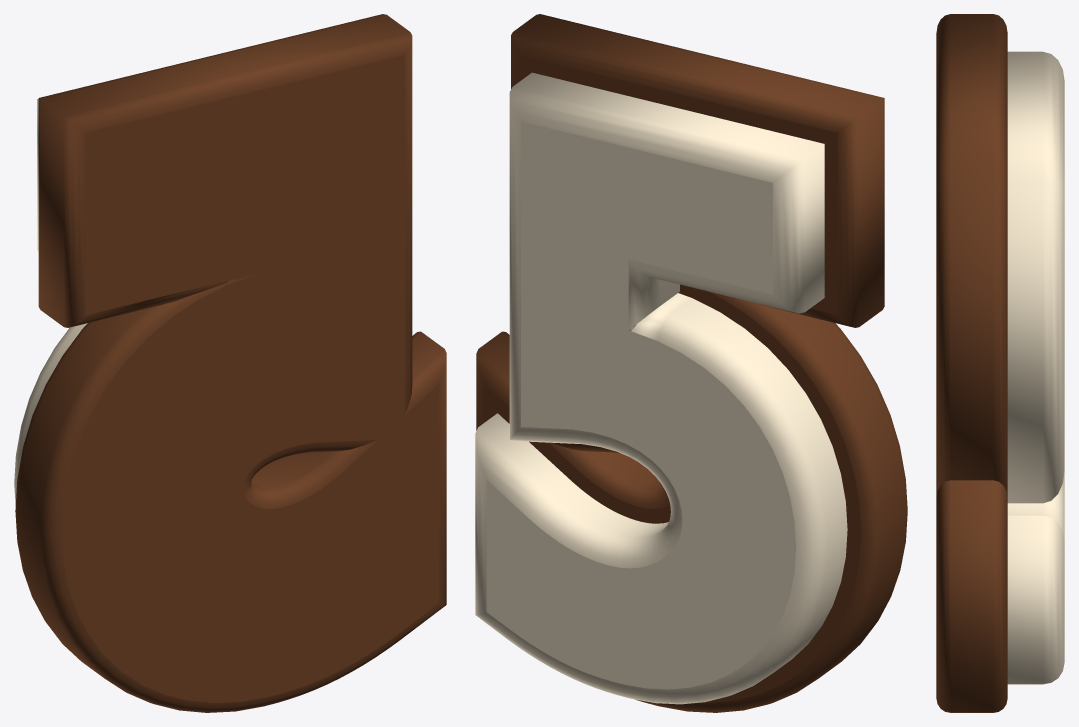
The model's file is Digit_5.fbx.
The picture shows the model from 3 angles, left to right: view 1: azimuth 30°, elevation 25°; view 2: azimuth 150°, elevation 25°; view 3: azimuth 270°, elevation 25°; orthographic projection. The views are drawn at different scales.
Parts seen in each view (by area): view 1: Digit_5; view 2: Digit_5; view 3: Digit_5.
Boxes of the visible parts, x1=… form: Digit_5: x1=14, y1=14, x2=446, y2=712; Digit_5: x1=475, y1=14, x2=907, y2=712; Digit_5: x1=936, y1=14, x2=1064, y2=712.
Bounding box in the file's own units: 0.5982 × 0.9011 × 0.18.
1 material, 1 textured.
